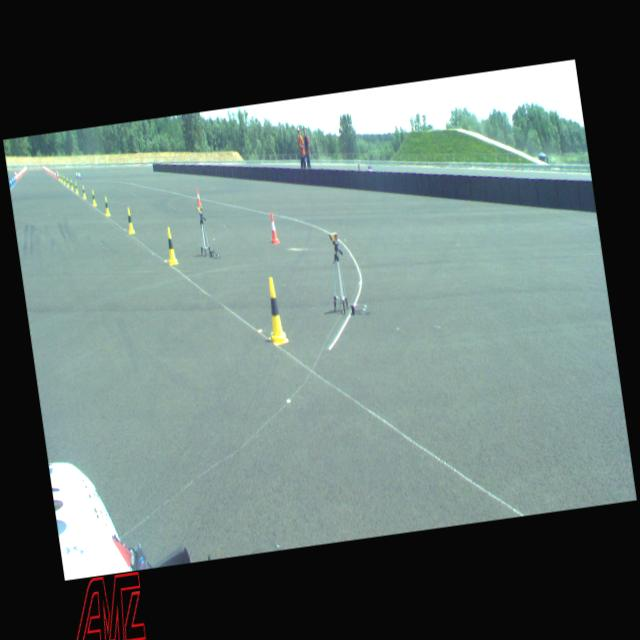blue_cone: (12, 176, 14, 185), (10, 178, 12, 187)
large_orange_cone: (56, 168, 60, 180)
orange_cone: (268, 212, 280, 244), (195, 188, 201, 206)
yellow_cone: (263, 276, 289, 345), (164, 227, 178, 264), (126, 207, 136, 234), (102, 196, 110, 216), (90, 190, 98, 206), (74, 181, 79, 194), (82, 185, 86, 199), (70, 179, 74, 190), (66, 177, 70, 187), (60, 174, 63, 182), (63, 176, 66, 184)
